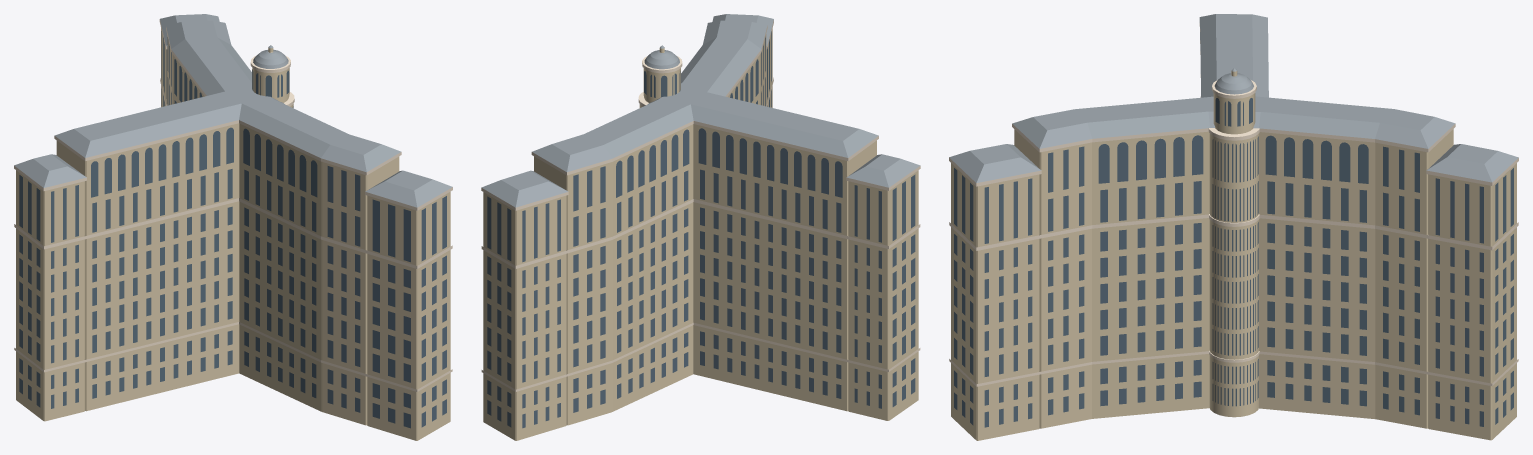
3 views of the same model, side by side, from view 1: azimuth 30°, elevation 25°; view 2: azimuth 150°, elevation 25°; view 3: azimuth 270°, elevation 25° (orthographic). The views are drawn at different scales.
Parts seen in each view (by area): view 1: bellagio-las-vegas; view 2: bellagio-las-vegas; view 3: bellagio-las-vegas.
Boxes of the visible parts, x1,y1,x2,y2 form: bellagio-las-vegas: (14, 14, 452, 440); bellagio-las-vegas: (481, 14, 920, 440); bellagio-las-vegas: (949, 14, 1518, 440).
Size of the model in its own units: 162 by 154 by 236.
